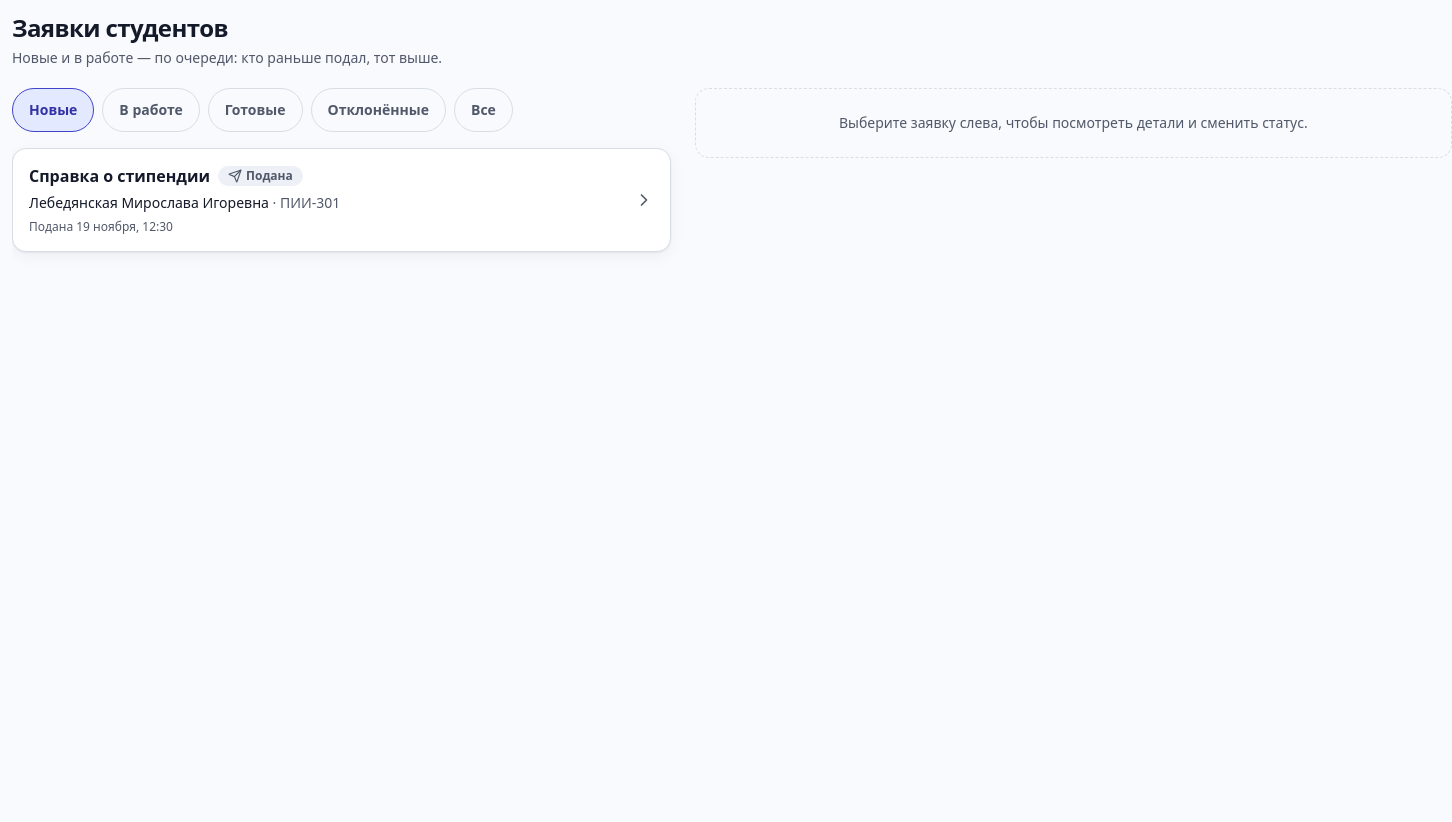
Scenario: StaffPage › отказ без причины — ошибка на месте; с причиной — статус меняется, карточка остаётся
The image size is (1452, 822).
Later steps or results of the test are not shown.
Click the link "Справка о стипендии" at {"x": 341, "y": 200}, box [12, 148, 671, 252]
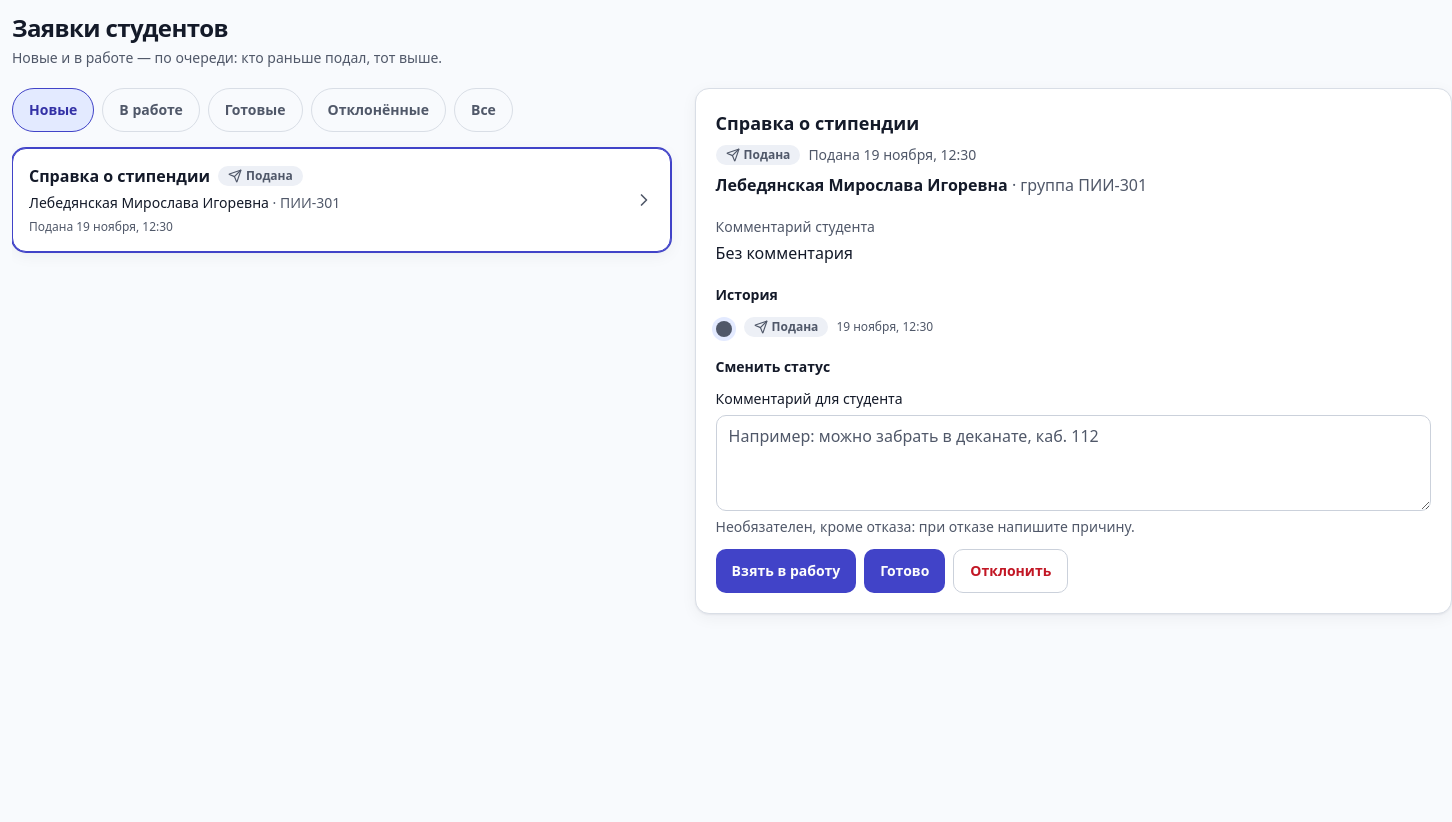
Check: the text "Лебедянская Мирослава Игоревна" is shown, box [716, 174, 1008, 196]
Click the button "Отклонить" at {"x": 1011, "y": 571}, box [953, 549, 1068, 593]
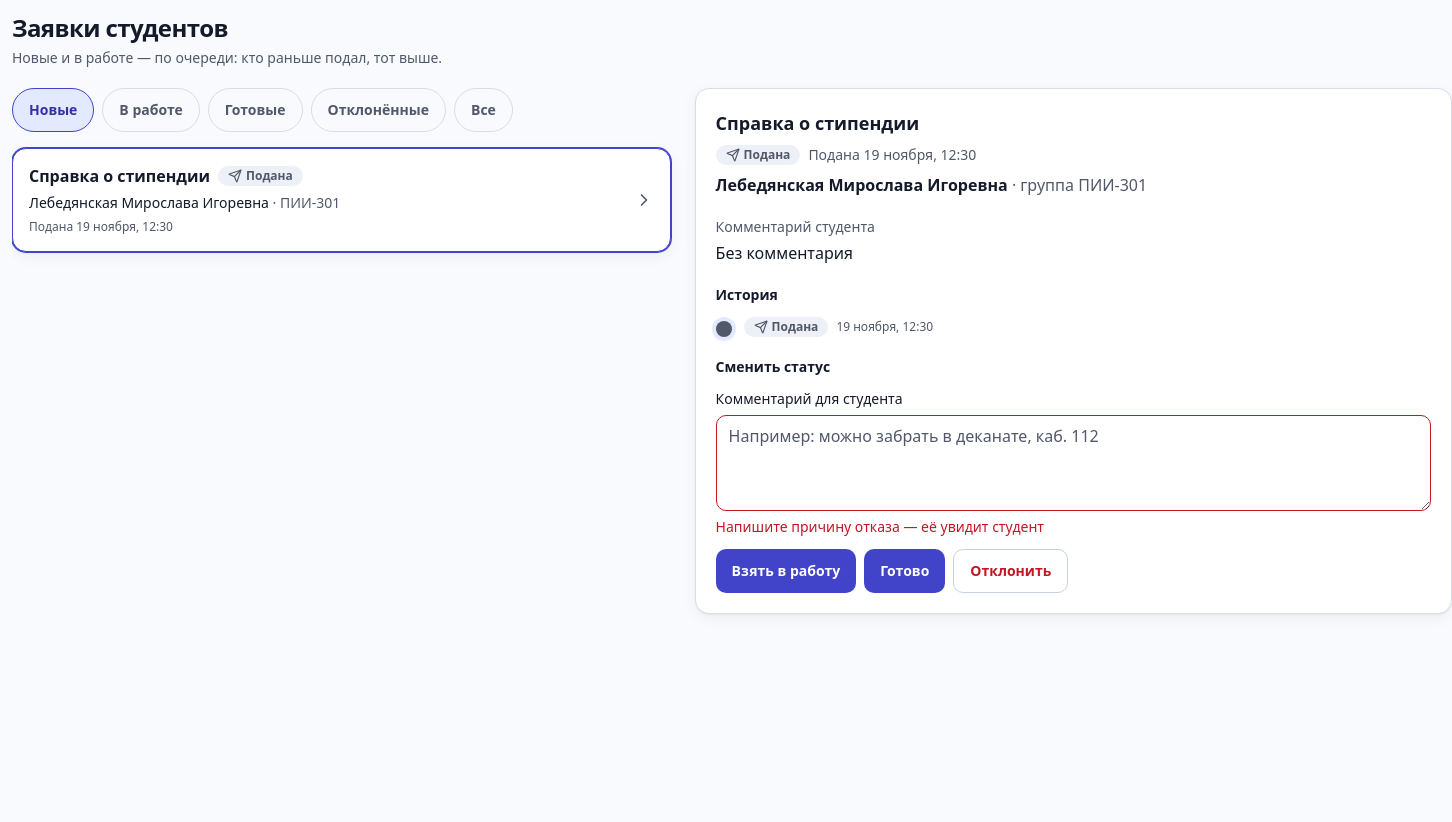
Check: the message shows "причину", box [716, 517, 1044, 536]
